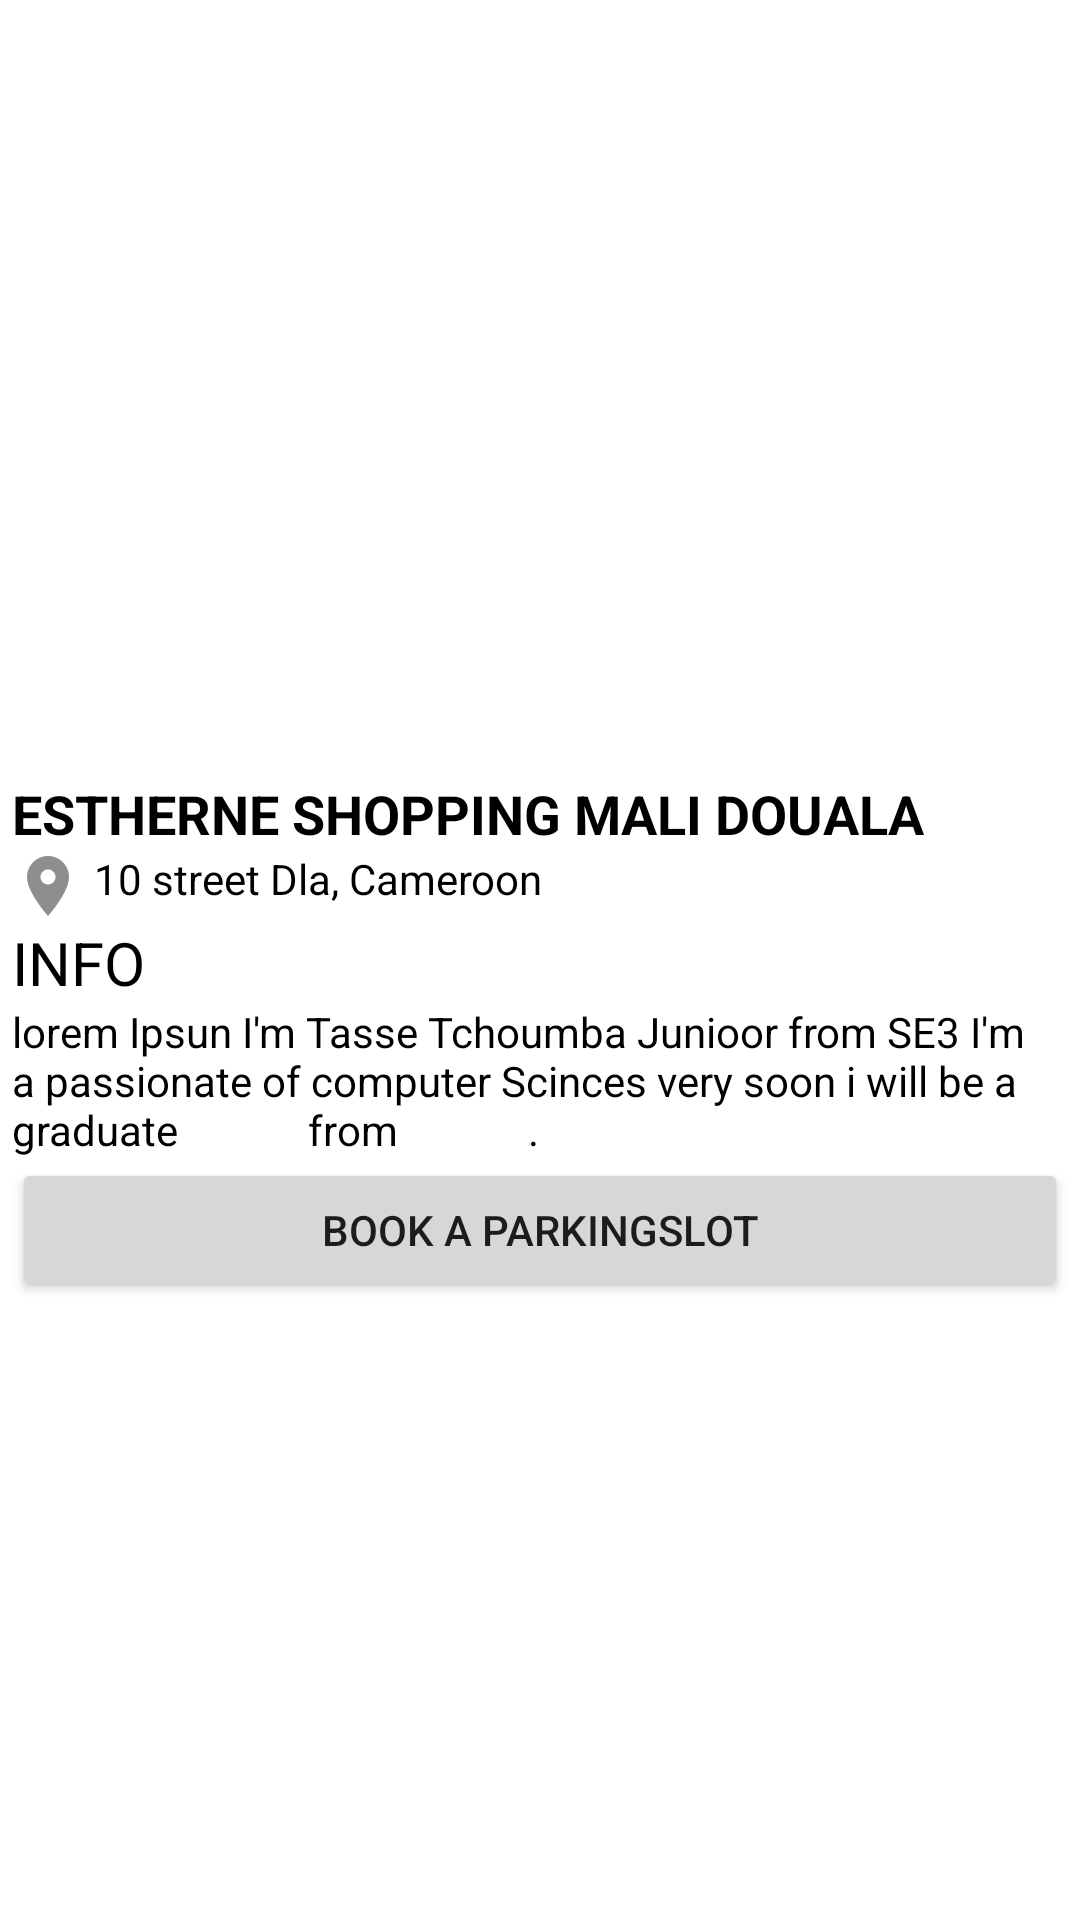

Named icons in this screenshot (1080x1920) and their centers, [x,y]:
location on: [48,886]
